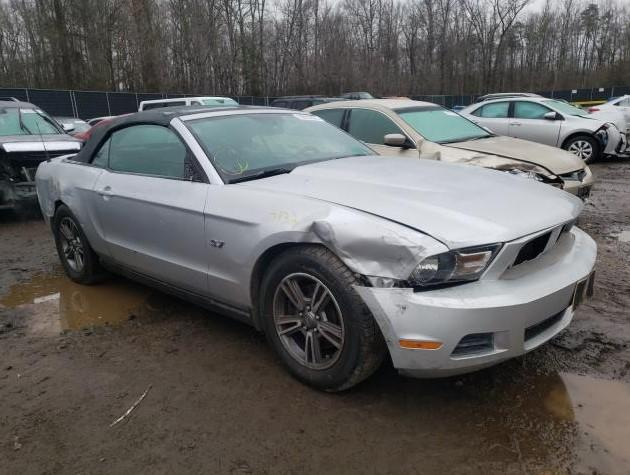Back-bumper: (37, 191, 54, 237)
Back-wheel: (53, 204, 112, 286)
Back-window: (91, 135, 109, 168)
Fender: (203, 184, 451, 313)
Front-bumper: (354, 218, 598, 380)
Front-door: (94, 117, 224, 296)
Front-wheel: (259, 245, 389, 394)
Front-window: (110, 124, 186, 177)
Grille: (513, 234, 551, 270), (557, 226, 571, 245)
Headlight: (406, 243, 503, 292)
Hood: (237, 155, 586, 250)
License-plate: (572, 268, 596, 312)
Quarter-panel: (35, 159, 115, 266)
Rocker-panel: (103, 259, 261, 333)
Roof: (105, 104, 305, 121)
Trunk: (51, 153, 75, 160)
Windshield: (184, 113, 377, 184)
